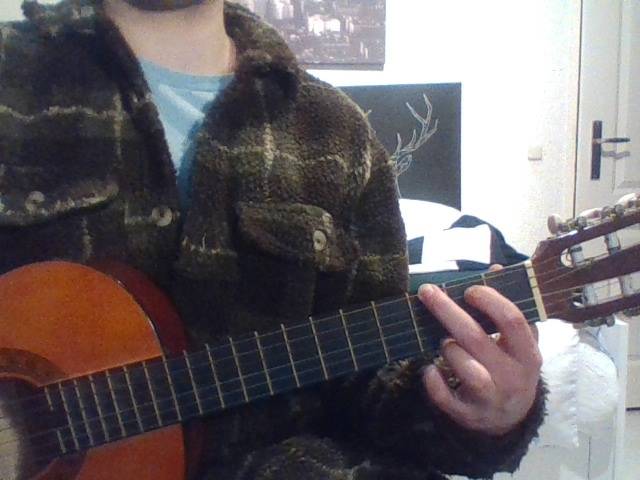G: (392, 262, 580, 453)
